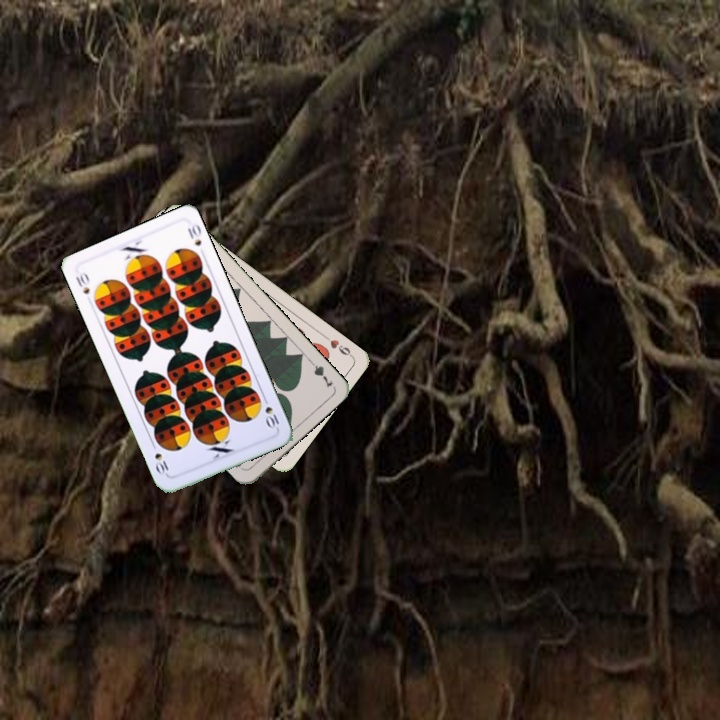G7: (304, 355, 336, 391)
H9: (320, 331, 355, 360)
S10: (259, 392, 282, 432), (72, 269, 92, 298)
